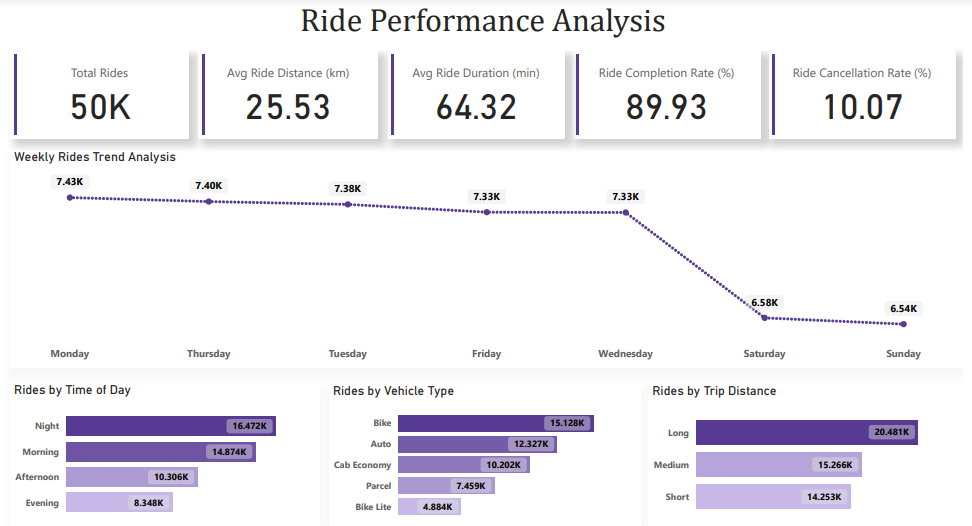

This screenshot's page, from the dashboard's own definition file:
{"tool":"powerbi","page":{"name":"Rides","canvas":[1280,720],"ordinal":1},"visuals":[{"type":"lineChart","title":"Weekly Rides Trend Analysis","fields":{"Category":["rides_data.day name"],"Y":["DAX.Total Rides"]},"box":[10.1,216,1270.1,290.9],"z":2000},{"type":"barChart","title":"Rides by Time of Day","fields":{"Category":["rides_data.day time"],"Y":["DAX.Total Rides"]},"box":[10.1,527,413.3,193],"z":3000},{"type":"barChart","title":"Rides by Trip Distance","fields":{"Y":["DAX.Total Rides"],"Category":["rides_data.distance category"]},"box":[861.4,527.6,418.9,192.4],"z":4000},{"type":"cardVisual","fields":{"Data":["DAX.Total Rides"]},"box":[10.1,85,237.6,116.6],"z":5000},{"type":"cardVisual","fields":{"Data":["DAX.Avg Ride Distance"]},"box":[260.6,85,239,116.6],"z":6000},{"type":"barChart","title":"Rides by Vehicle Type","fields":{"Y":["DAX.Total Rides"],"Category":["rides_data.services"]},"box":[434.6,527.6,415,192.4],"z":7000},{"type":"cardVisual","fields":{"Data":["DAX.Ride Completion Rate (%)"]},"box":[759.3,85.1,251.3,116.5],"z":7001},{"type":"cardVisual","fields":{"Data":["DAX.Avg Ride Duration"]},"box":[513.2,85.1,235.6,116.5],"z":7002},{"type":"cardVisual","fields":{"Data":["DAX.Ride Cancellation Rate (%)"]},"box":[1021.1,85.1,248.7,116.5],"z":7003},{"type":"textbox","box":[10.5,11.8,1259.3,73.3],"z":7004}]}

Visuals, with their boxes on the page's 1280x720 design canvas (x1, y1, x2, y2). These are canvas units, not pixel positions in the 972x526 screenshot, which may show the page scaled, cropped or inside an application window:
"Weekly Rides Trend Analysis" lineChart: x1=10, y1=216, x2=1280, y2=507
"Rides by Time of Day" barChart: x1=10, y1=527, x2=423, y2=720
"Rides by Trip Distance" barChart: x1=861, y1=528, x2=1280, y2=720
cardVisual - DAX.Total Rides: x1=10, y1=85, x2=248, y2=202
cardVisual - DAX.Avg Ride Distance: x1=261, y1=85, x2=500, y2=202
"Rides by Vehicle Type" barChart: x1=435, y1=528, x2=850, y2=720
cardVisual - DAX.Ride Completion Rate (%): x1=759, y1=85, x2=1011, y2=202
cardVisual - DAX.Avg Ride Duration: x1=513, y1=85, x2=749, y2=202
cardVisual - DAX.Ride Cancellation Rate (%): x1=1021, y1=85, x2=1270, y2=202
textbox: x1=10, y1=12, x2=1270, y2=85
